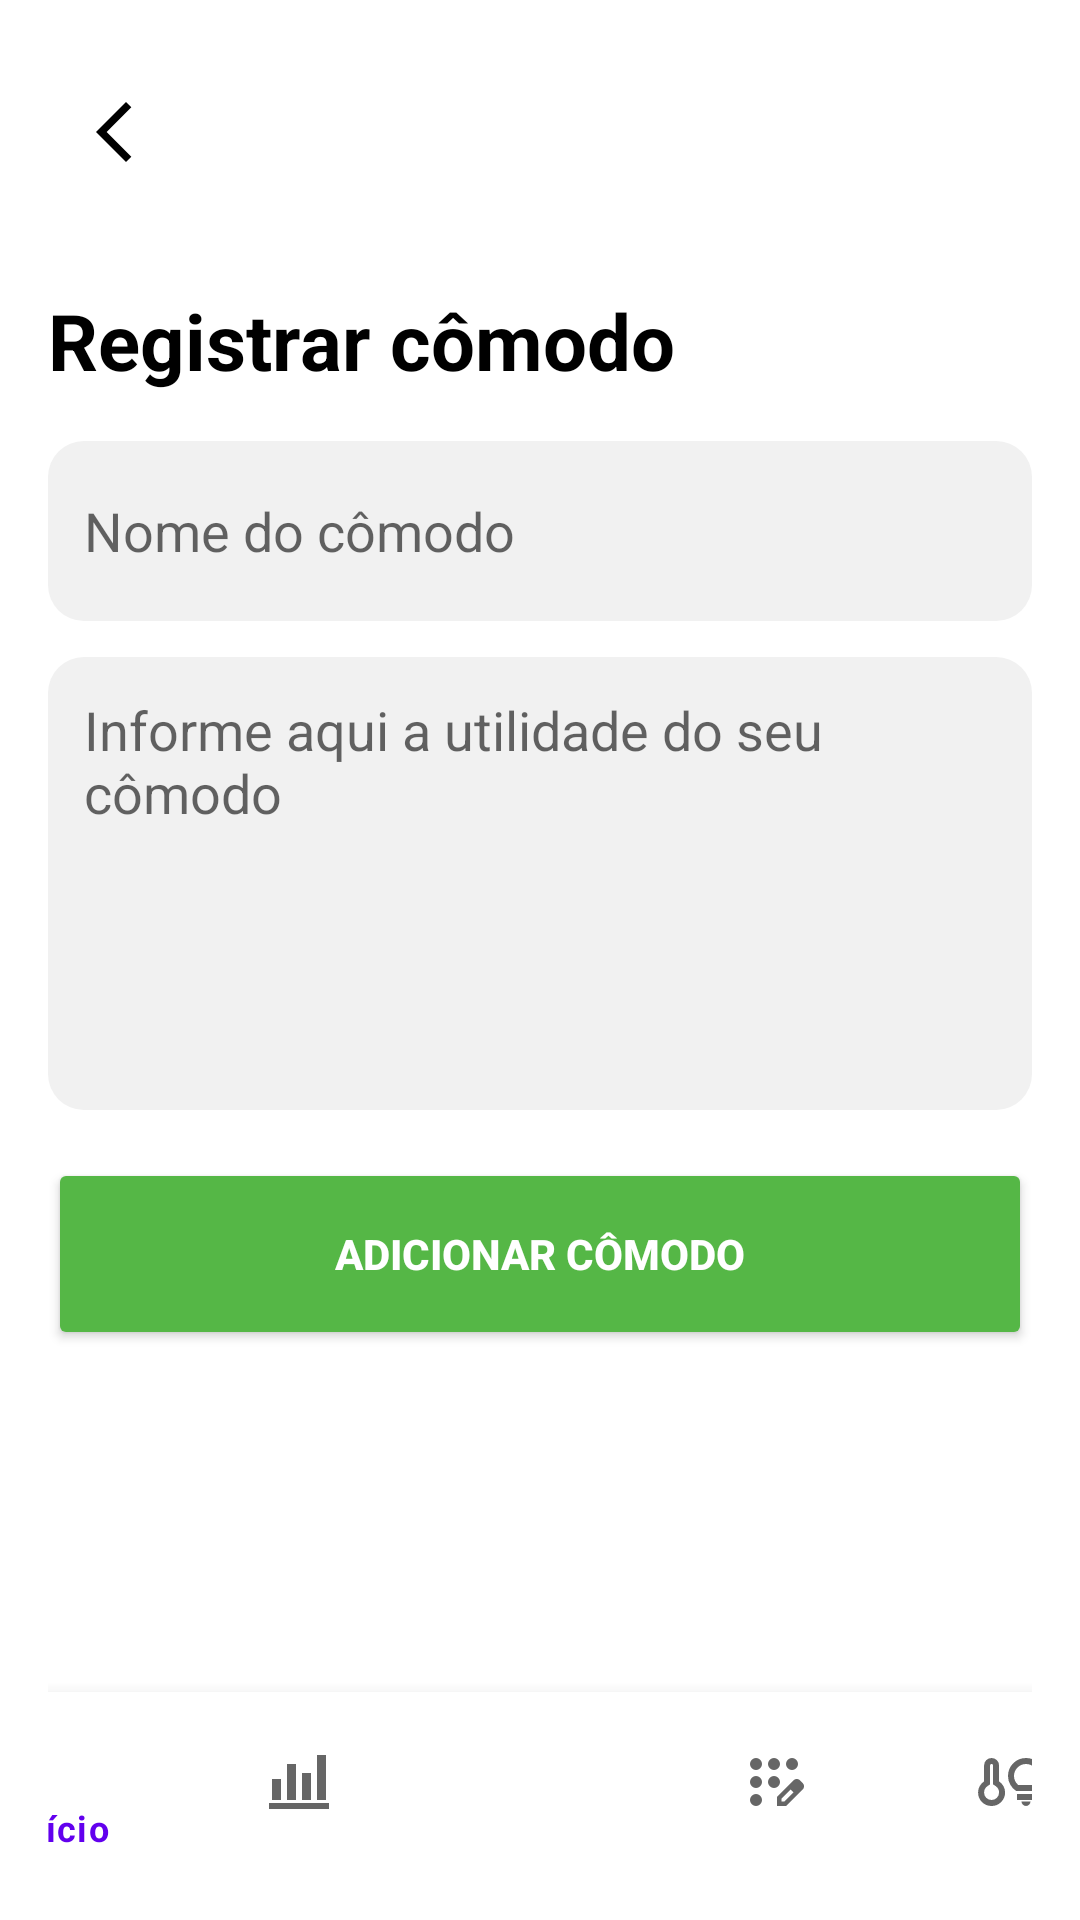

Icon click points for this 1080*1920 phone screenshot, format point (x, y):
Voltar: point (113, 132)
